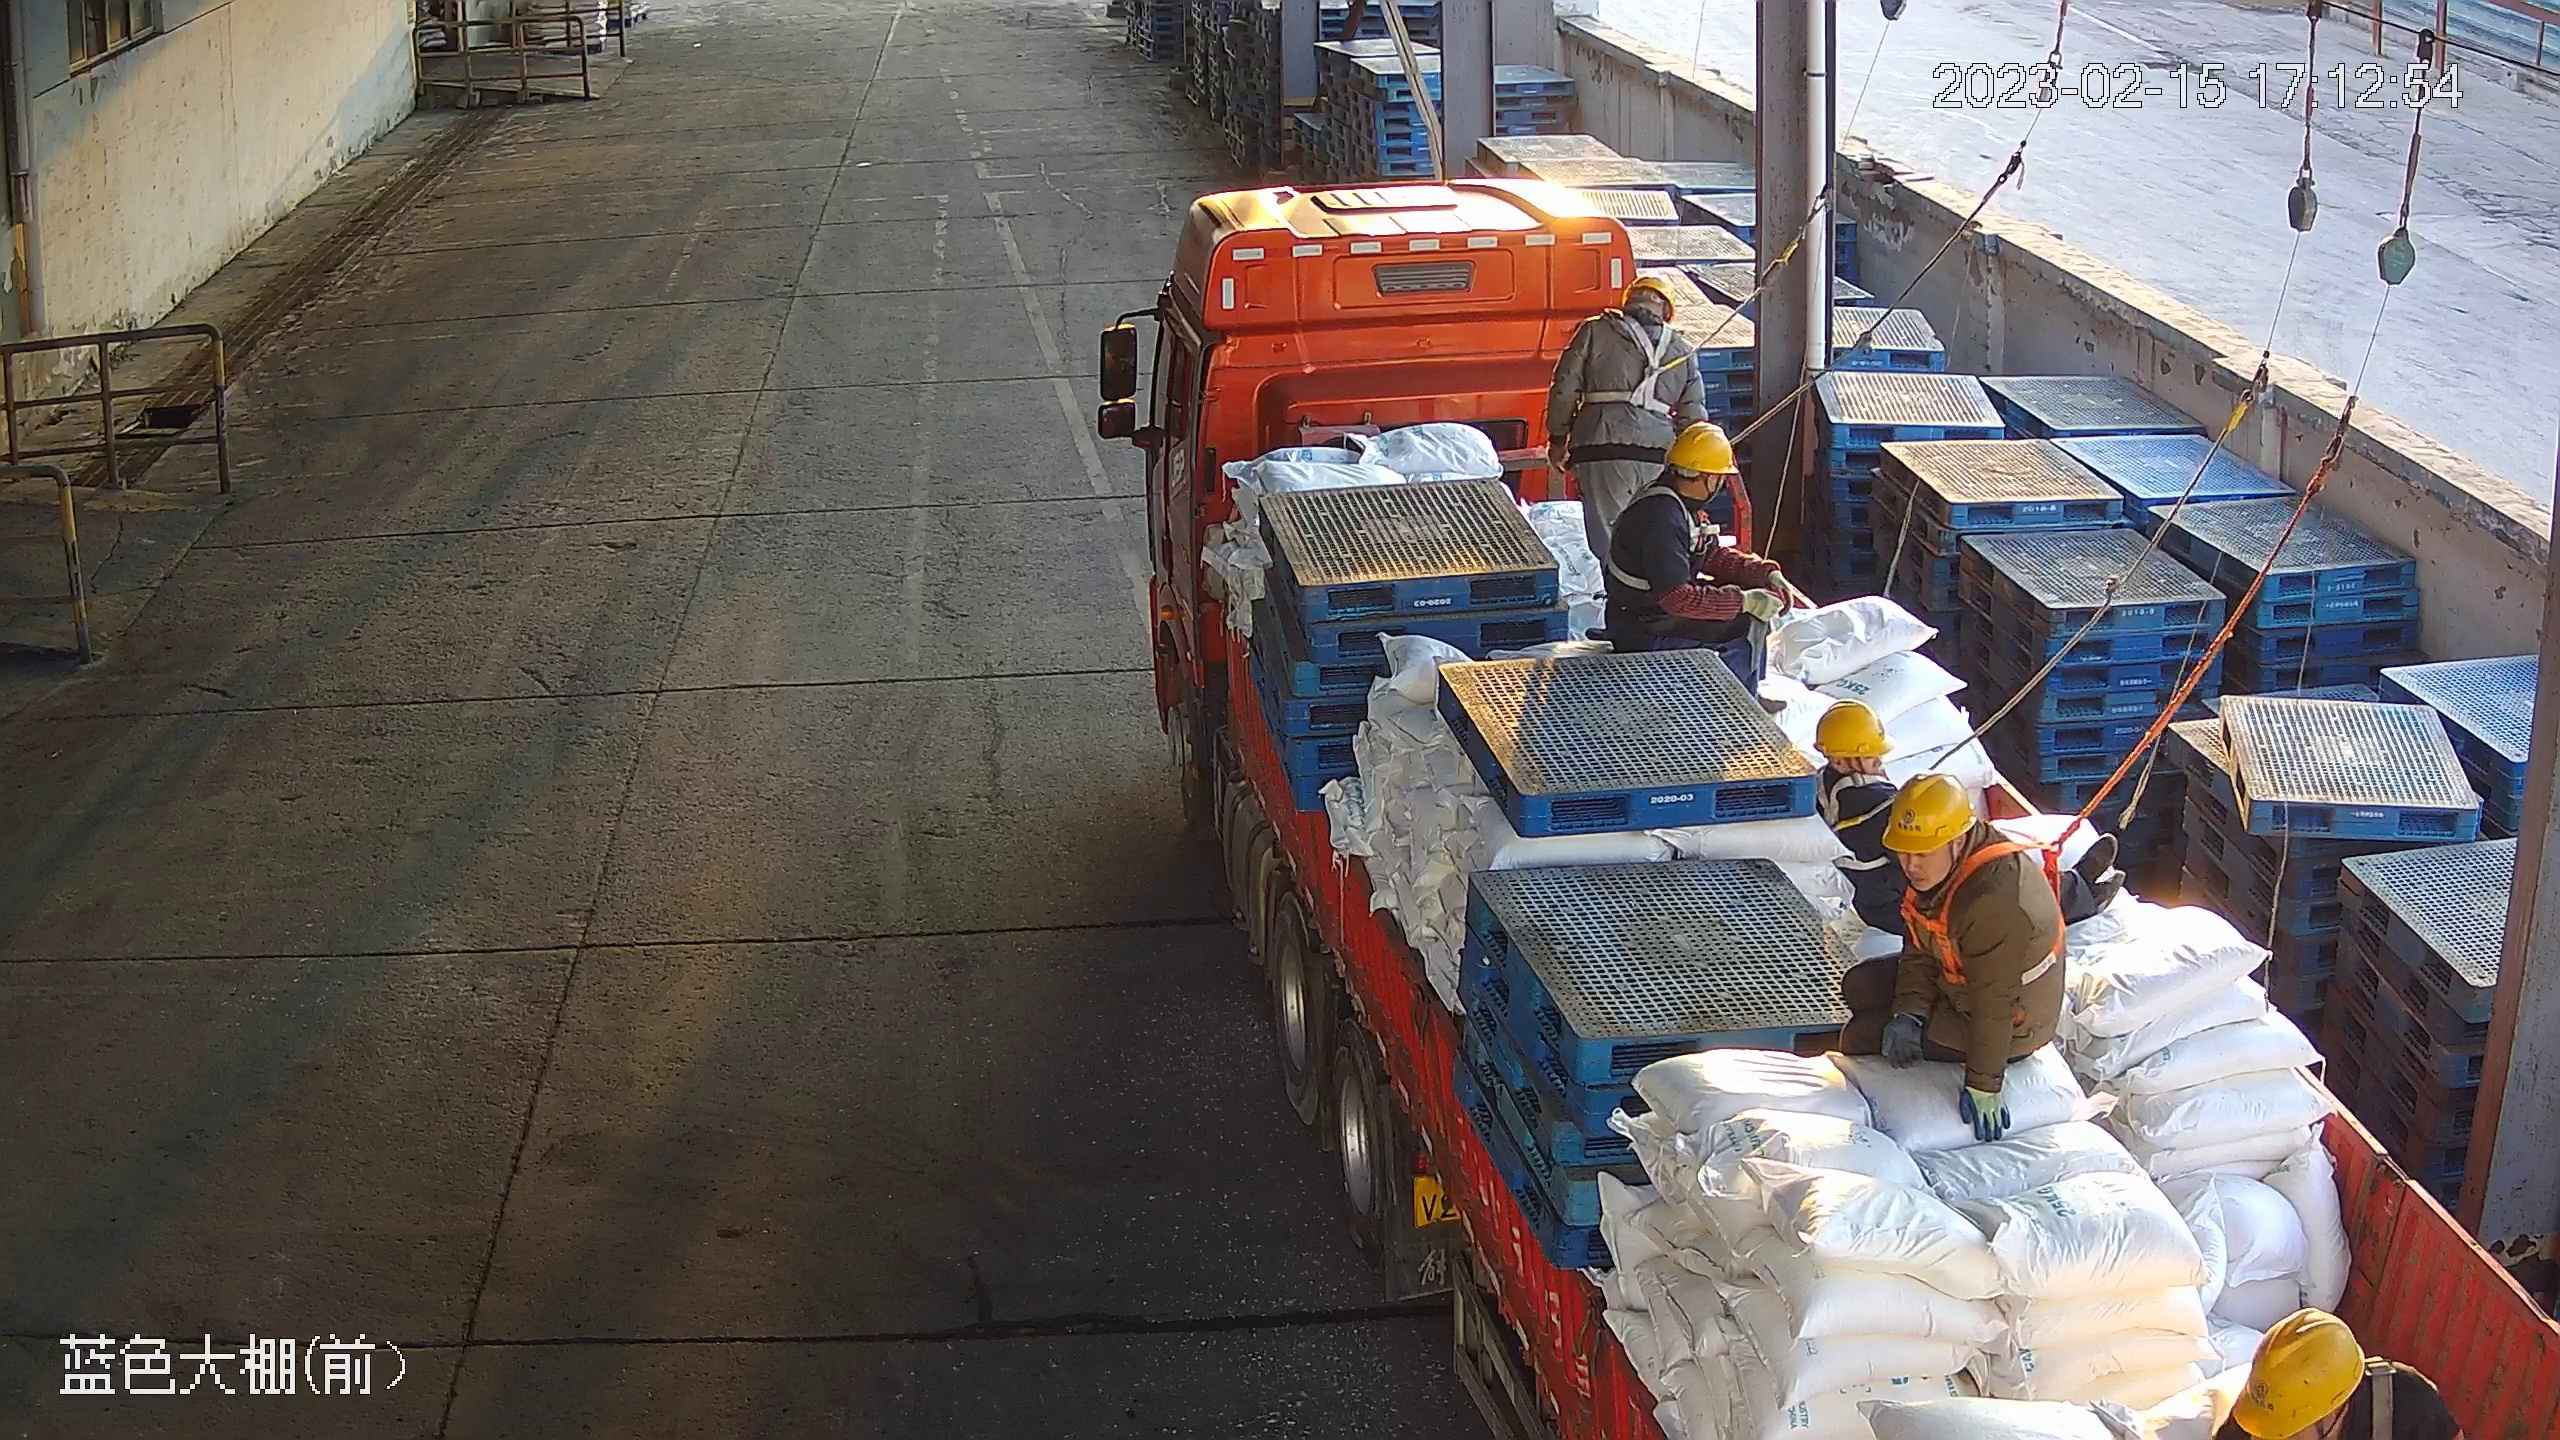belt: (1899, 819, 2074, 986), (1605, 479, 1721, 593), (1582, 314, 1688, 417), (1817, 768, 1898, 871)
head: (1880, 772, 2050, 939), (1624, 421, 1741, 536), (1571, 279, 1699, 368), (1814, 697, 1897, 827)
helmet: (2230, 1306, 2365, 1440), (1881, 770, 1977, 854), (1813, 698, 1895, 757), (1664, 421, 1739, 474), (1622, 275, 1675, 311)
people: (1835, 772, 2066, 1144), (1813, 697, 2126, 938), (1544, 276, 1709, 641), (1603, 419, 1793, 716)
truck: (1097, 178, 2560, 1440)
